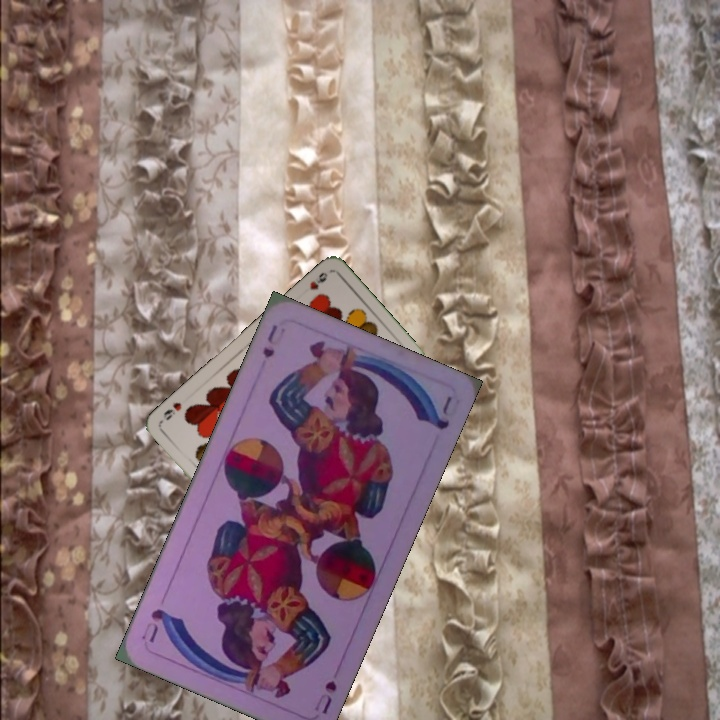H9: (306, 268, 330, 293)
SU: (310, 676, 340, 717), (258, 320, 280, 360)
